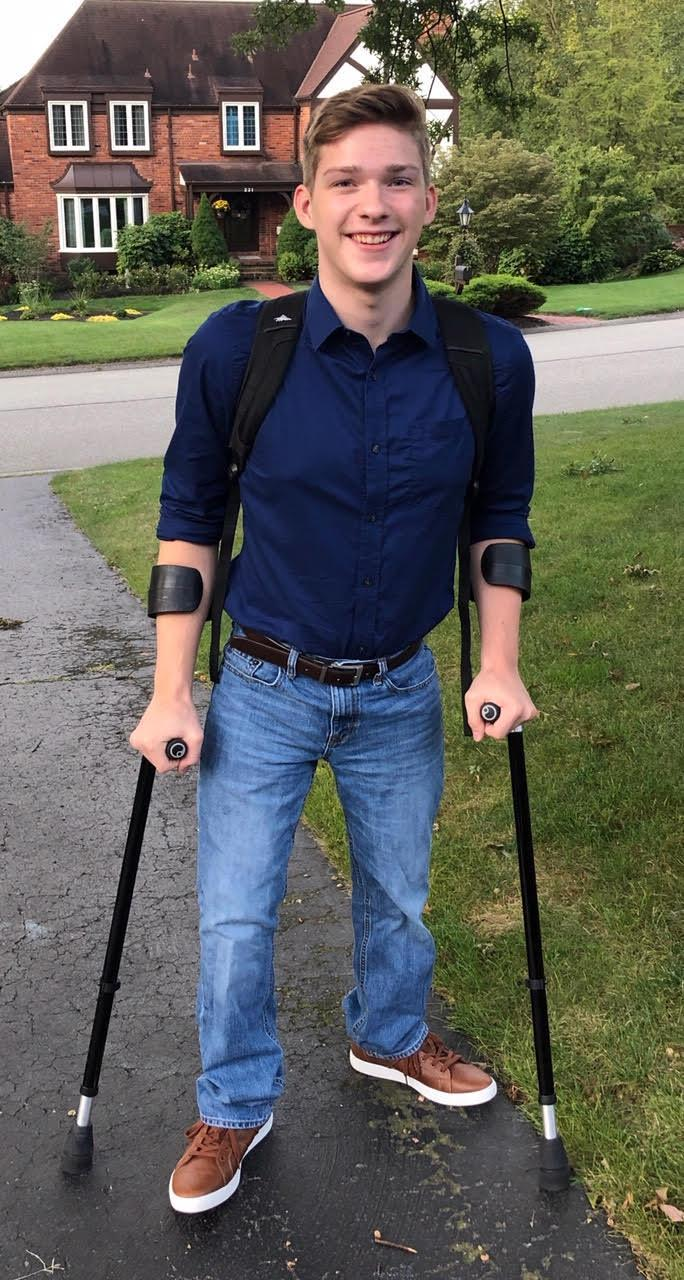crutches: (63, 84, 575, 1217)
